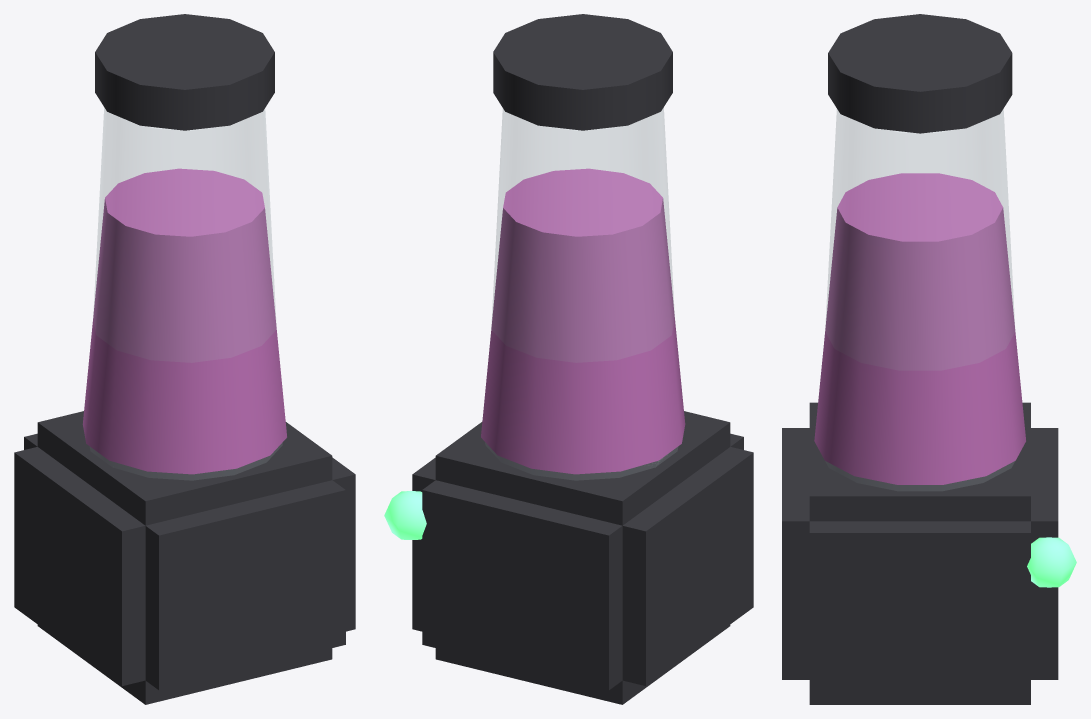
The model's file is blender_machine.glb.
3 renders of one model, left to right at view 1: azimuth 30°, elevation 25°; view 2: azimuth 150°, elevation 25°; view 3: azimuth 270°, elevation 25°, orthographic. The views are drawn at different scales.
Visible parts, largest first — view 1: blender_machine; view 2: blender_machine; view 3: blender_machine.
Part boxes in pixels (left/top/right/bottom): blender_machine: left=14, top=14, right=355, bottom=704; blender_machine: left=384, top=14, right=753, bottom=704; blender_machine: left=782, top=14, right=1076, bottom=704.
Bounding box in the file's own units: 0.316 × 0.725 × 0.32.
